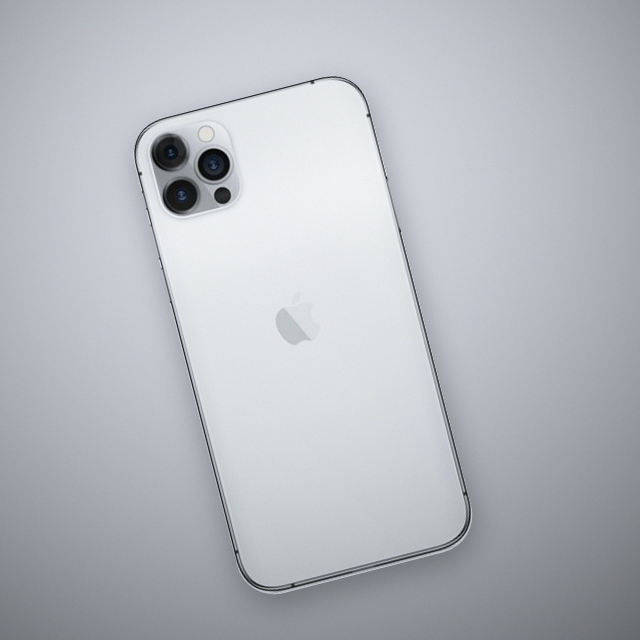iphone_12pro_silver: (92, 49, 522, 601), (134, 111, 253, 229)
